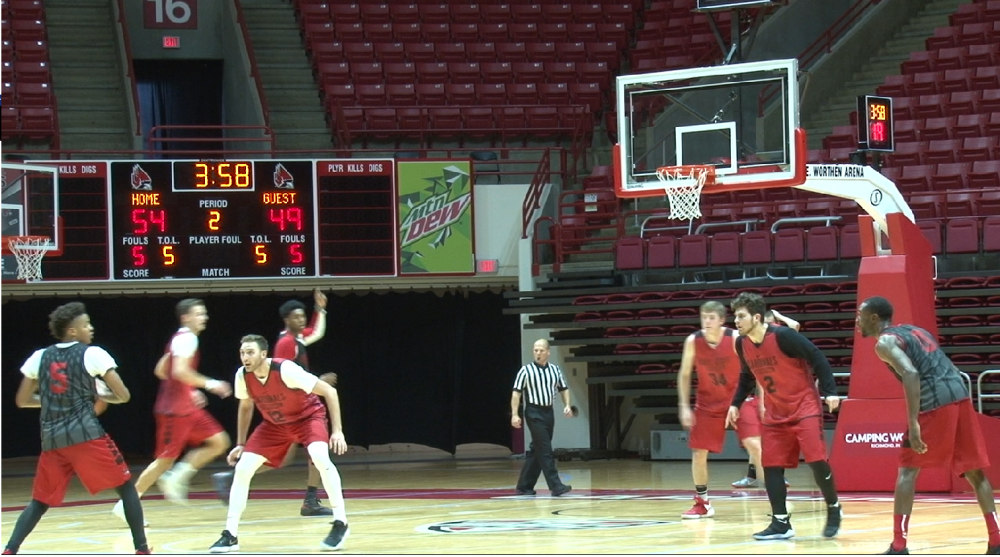basket: (656, 164, 711, 219), (6, 233, 53, 281)
player: (854, 300, 997, 557), (5, 300, 147, 557), (216, 333, 359, 547), (732, 297, 846, 541), (126, 297, 222, 519), (676, 302, 754, 516), (273, 288, 330, 512), (509, 337, 577, 496)
